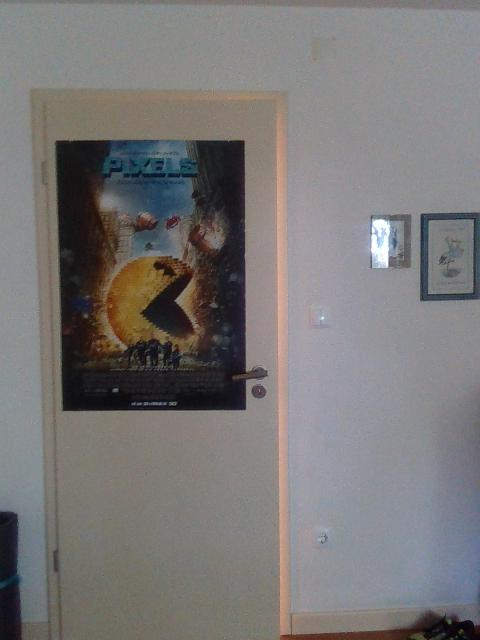door: (44, 99, 277, 640)
